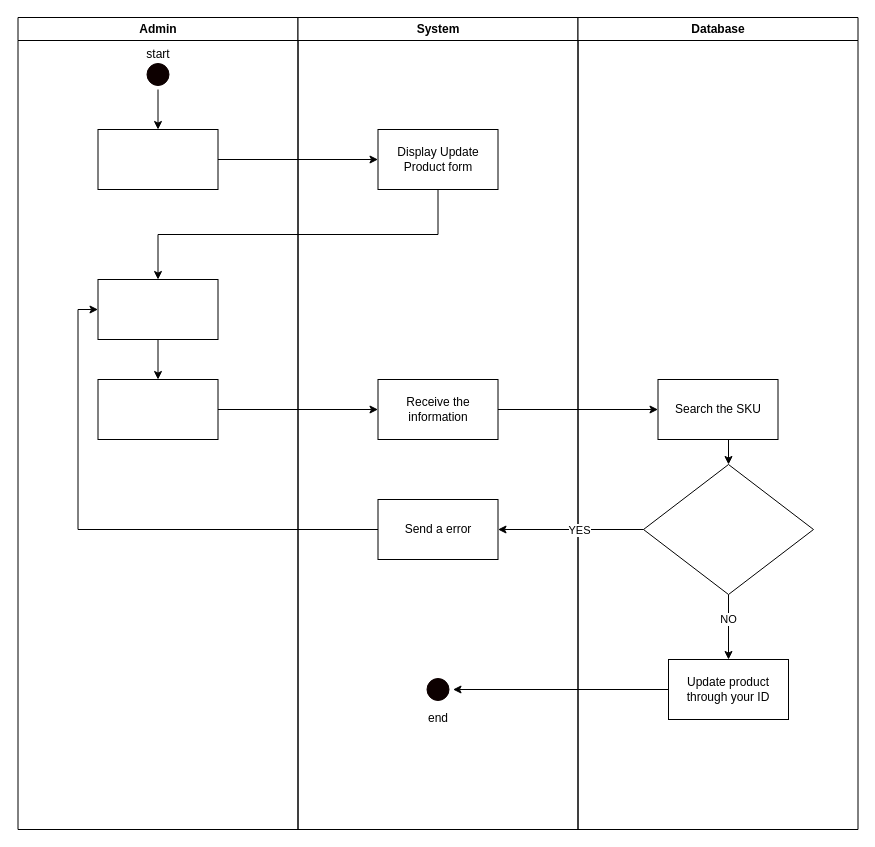
Some shapes in this 875 by 847 pixel diagram are drawn without their labels. Each missing label, with the centre of its shape:
"Click on update button" belongs at (157,409).
"Fill out the form" belongs at (157,309).
"Press Edit Product Button of one product" belongs at (157,159).
"The SKU already exists or is there a field to fill out?" belongs at (728,529).
